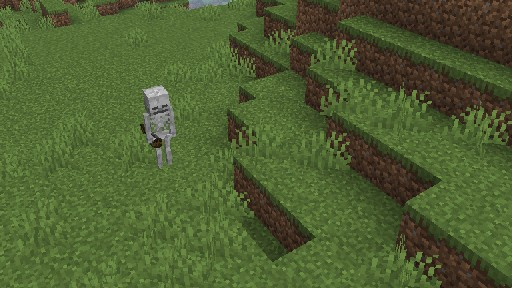skeleton: (139, 84, 176, 167)
